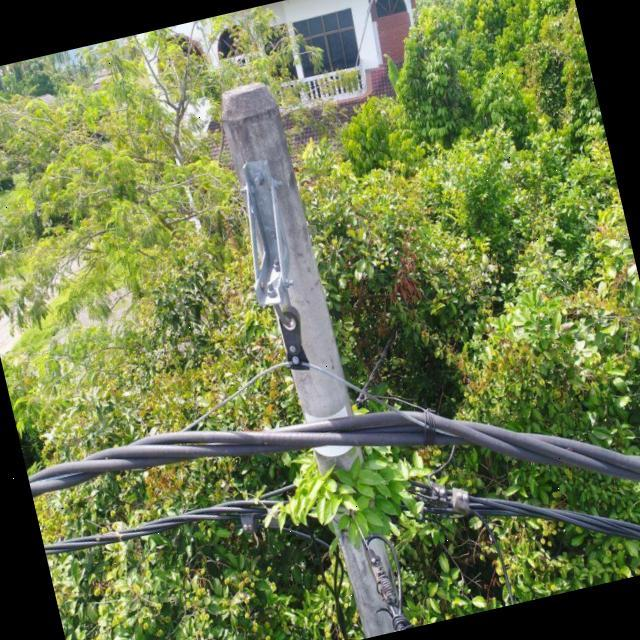critical vegetation: (236, 377, 441, 574)
